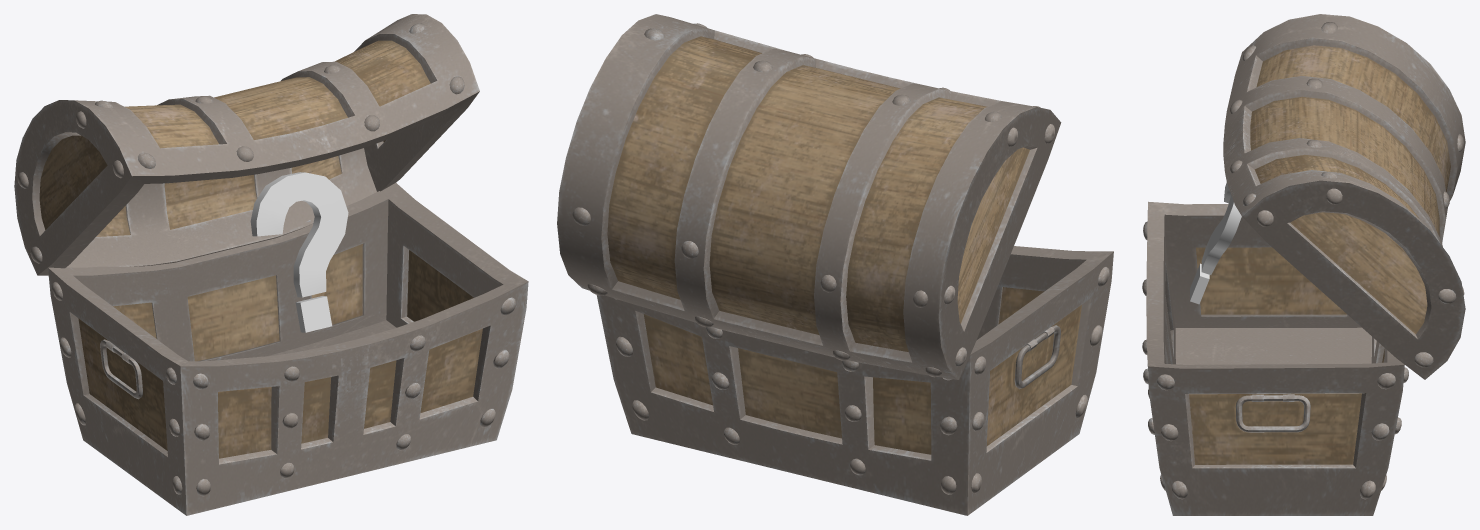
Rendered from 보물상자변형.fbx.
3 renders of one model, left to right at view 1: azimuth 30°, elevation 25°; view 2: azimuth 150°, elevation 25°; view 3: azimuth 270°, elevation 25°, orthographic. The views are drawn at different scales.
Visible parts, largest first — view 1: Object048, Object049, TextPlus001; view 2: Object049, Object048; view 3: Object048, Object049, TextPlus001.
Boxes of the visible parts, left/top/right/bottom form: Object048: left=48, top=183, right=528, bottom=515; Object049: left=14, top=14, right=479, bottom=275; TextPlus001: left=250, top=172, right=348, bottom=332; Object049: left=557, top=14, right=1061, bottom=379; Object048: left=596, top=246, right=1113, bottom=515; Object048: left=1142, top=201, right=1408, bottom=515; Object049: left=1223, top=14, right=1465, bottom=379; TextPlus001: left=1190, top=182, right=1241, bottom=304.
Size of the model in its own units: 75.3 by 60.29 by 71.04.
